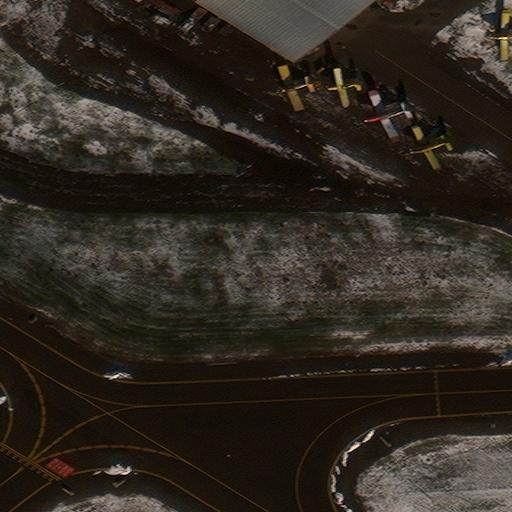Medium Civil Transport: (362, 92, 413, 142), (486, 11, 511, 61)
Small Civil Transport: (276, 67, 315, 111), (409, 128, 450, 169), (325, 69, 363, 108)
